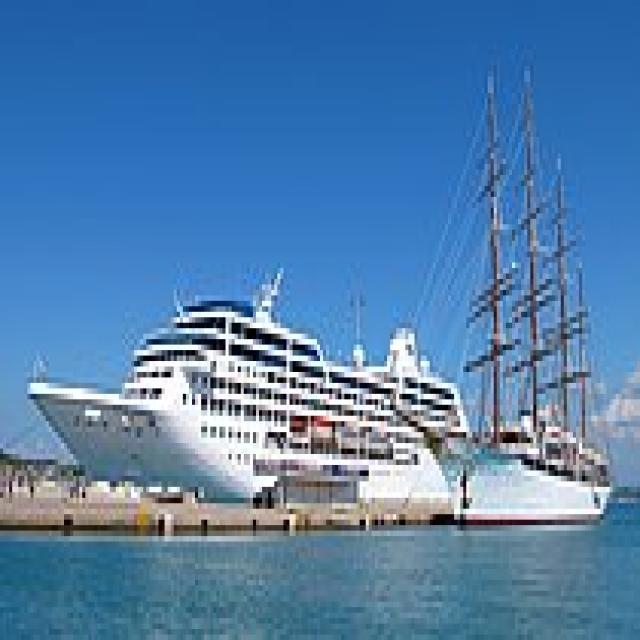Ship: (20, 247, 480, 532)
